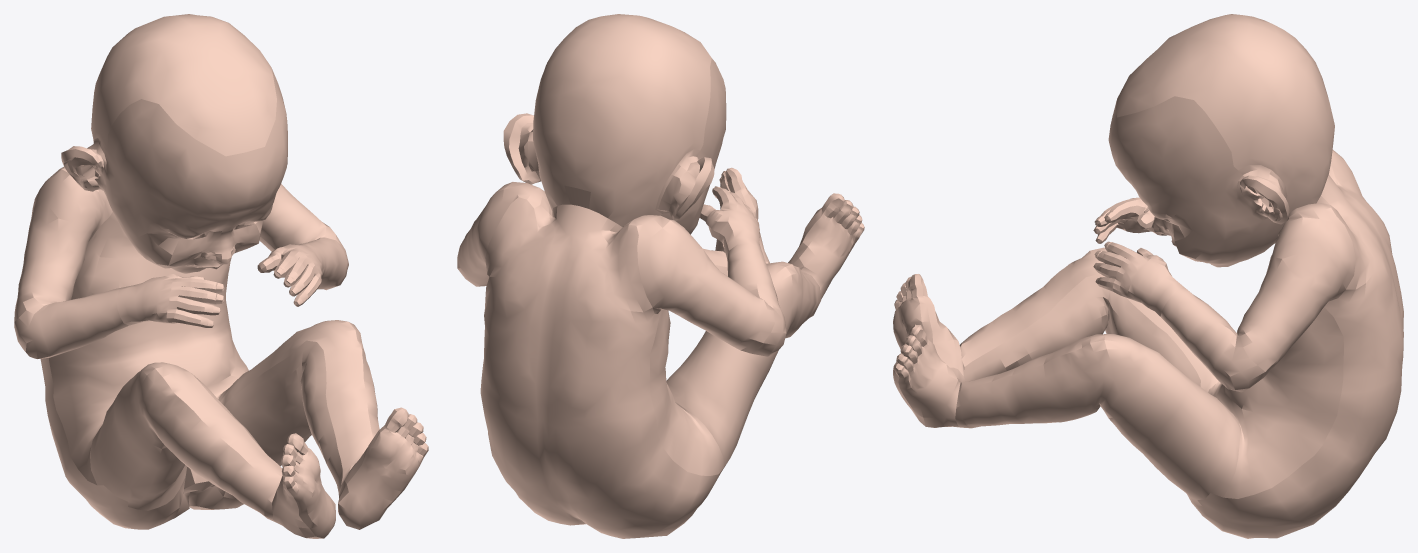
The model's file is term-fetus.glb.
3 views of the same model, side by side, from view 1: azimuth 30°, elevation 25°; view 2: azimuth 150°, elevation 25°; view 3: azimuth 270°, elevation 25° (orthographic).
Parts seen in each view (by area): view 1: fetus; view 2: fetus; view 3: fetus.
Part boxes in pixels (x1,y1,x2,y2): fetus: (14,14,428,538); fetus: (457,14,864,538); fetus: (893,14,1403,538).
Size of the model in its own units: 2.04 by 3 by 2.82.
